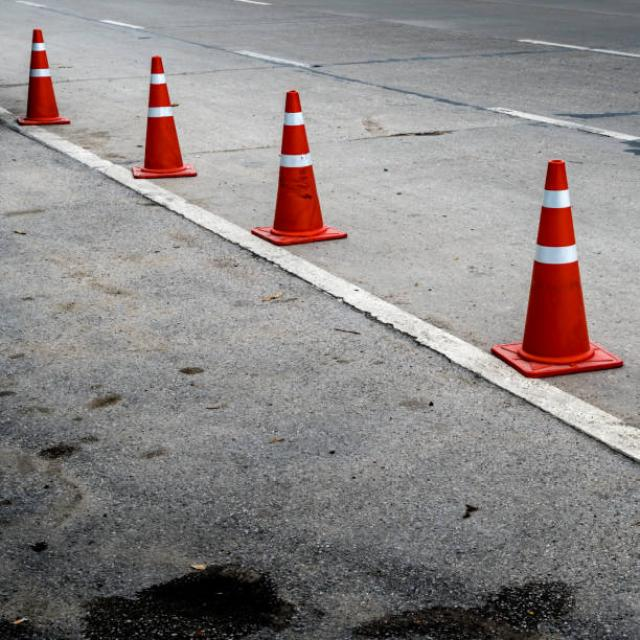Traffic Cone: (478, 143, 634, 399), (241, 73, 359, 258), (111, 44, 211, 194), (0, 9, 87, 144)
